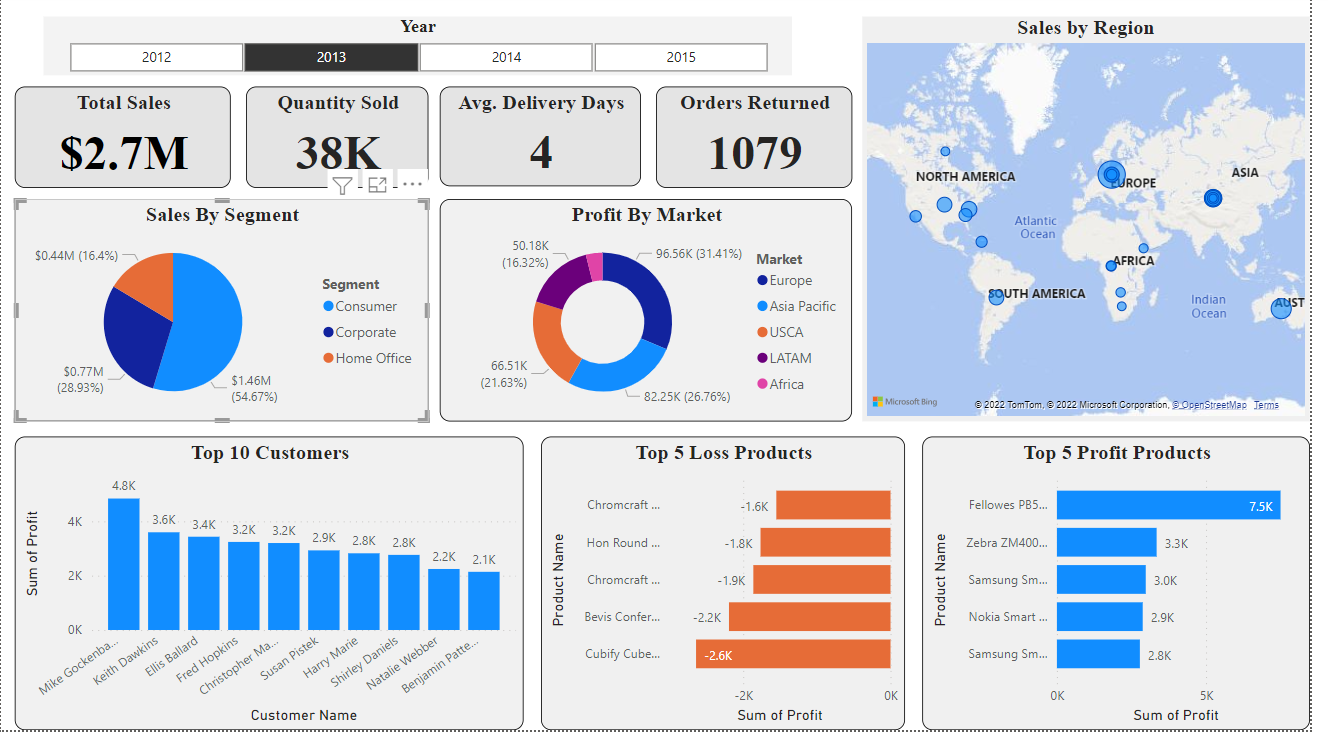

The dashboard page shown, as its layout file describes it:
{"tool":"powerbi","page":{"name":"Page 1","canvas":[1280,720],"ordinal":0},"visuals":[{"type":"card","title":"Quantity Sold","fields":{"Values":["Orders.Quantity"]},"box":[239.6,90.5,178.5,99],"z":0},{"type":"card","title":"Total Sales","fields":{"Values":["Orders.Sales"]},"box":[13.4,90.5,211.5,99],"z":1},{"type":"card","title":"Avg. Delivery Days","fields":{"Values":["Orders.Delivery Days"]},"box":[429.1,90.5,196.8,97.8],"z":2},{"type":"slicer","title":"Year","fields":{"Values":["Orders.Year"]},"box":[41.6,22,732.2,57.5],"z":3},{"type":"card","title":"Orders Returned","fields":{"Values":["Returns.Returned_Custom"]},"box":[640.5,90.5,191.9,99],"z":4},{"type":"map","title":"Sales by Region","fields":{"Size":["Orders.Sales"],"Category":["Orders.Region"]},"box":[842.2,22,437.6,396.1],"z":5},{"type":"barChart","title":"Top 5 Profit Products","fields":{"Category":["Orders.Product Name"],"Y":["Orders.Profit"]},"box":[900.9,432.7,378.9,287.3],"z":6},{"type":"barChart","title":"Top 5 Loss Products","fields":{"Category":["Orders.Product Name"],"Y":["Orders.Profit"]},"box":[528.1,432.7,355.7,287.3],"z":7},{"type":"pieChart","title":"Sales By Segment","fields":{"Category":["Orders.Segment"],"Y":["Orders.Sales"]},"box":[13.4,200.5,404.6,217.6],"z":8},{"type":"donutChart","title":"Profit By Market","fields":{"Category":["Orders.Market"],"Y":["Orders.Profit"]},"box":[429.1,200.5,403.4,217.6],"z":9},{"type":"clusteredColumnChart","title":"Top 10 Customers","fields":{"Category":["Orders.Customer Name"],"Y":["Orders.Profit"]},"box":[13.4,432.7,497.5,287.3],"z":10}]}

Visuals, with their boxes in screenshot pixels (x1, y1, x2, y2), scaled from the page's 1280x720 canvas onto the 1328x740 screenshot:
"Quantity Sold" card: crop(249, 93, 434, 195)
"Total Sales" card: crop(14, 93, 233, 195)
"Avg. Delivery Days" card: crop(445, 93, 649, 194)
"Year" slicer: crop(43, 23, 803, 82)
"Orders Returned" card: crop(665, 93, 864, 195)
"Sales by Region" map: crop(874, 23, 1327, 430)
"Top 5 Profit Products" barChart: crop(935, 445, 1327, 739)
"Top 5 Loss Products" barChart: crop(548, 445, 917, 739)
"Sales By Segment" pieChart: crop(14, 206, 434, 430)
"Profit By Market" donutChart: crop(445, 206, 864, 430)
"Top 10 Customers" clusteredColumnChart: crop(14, 445, 530, 739)
